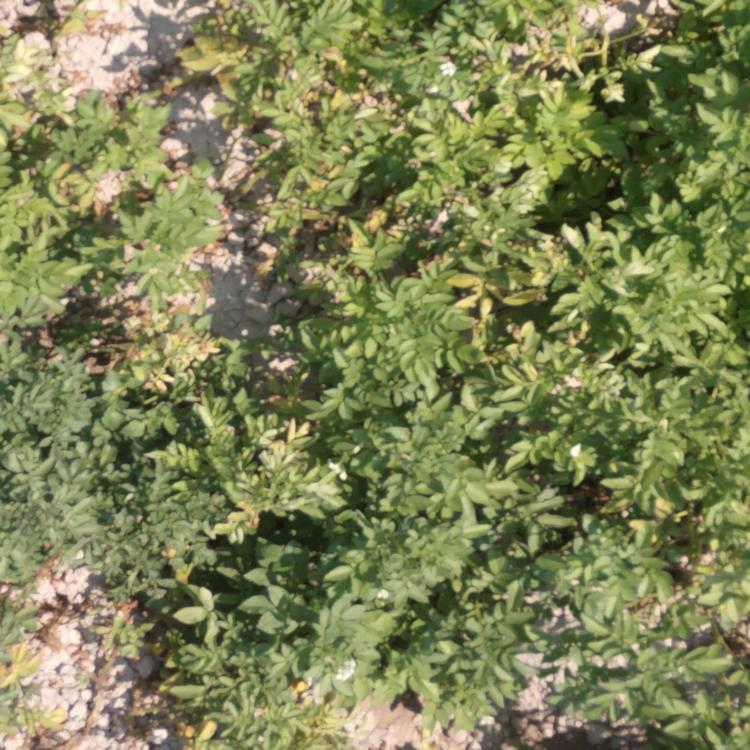healthy: (378, 404, 750, 750), (561, 24, 746, 387), (113, 395, 372, 627), (1, 381, 107, 616)
stressed: (218, 15, 540, 392), (1, 3, 212, 383), (148, 639, 363, 749), (1, 630, 70, 744)
